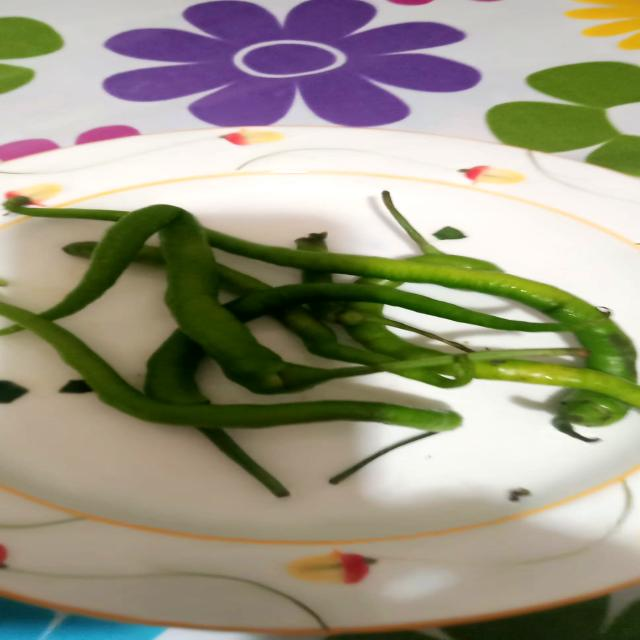green pepper: (24, 202, 458, 418)
